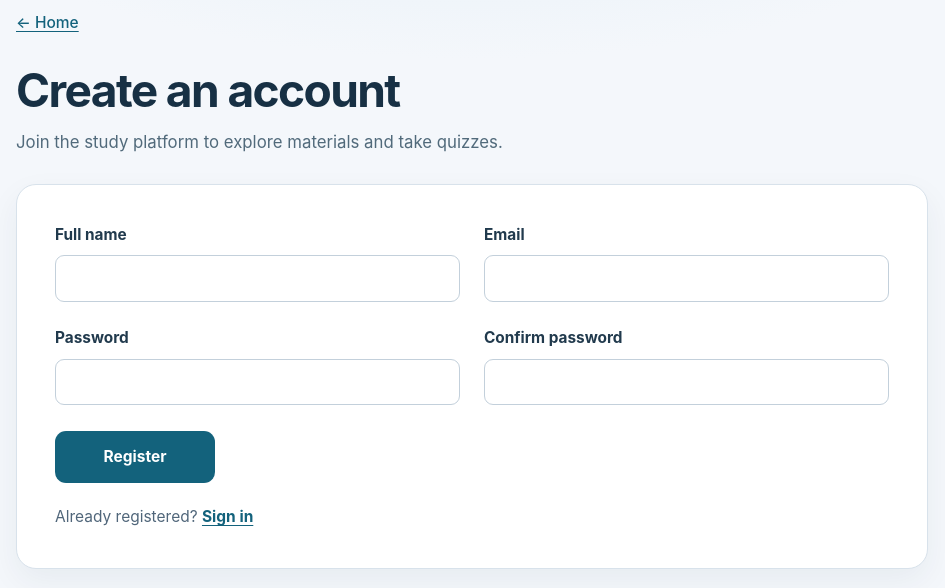
Scenario: registers via existing API and offers sign-in afterward
In the field labelled "Full name": (258, 279) x1=55 y1=255 x2=460 y2=302, type "Riya Sharma"
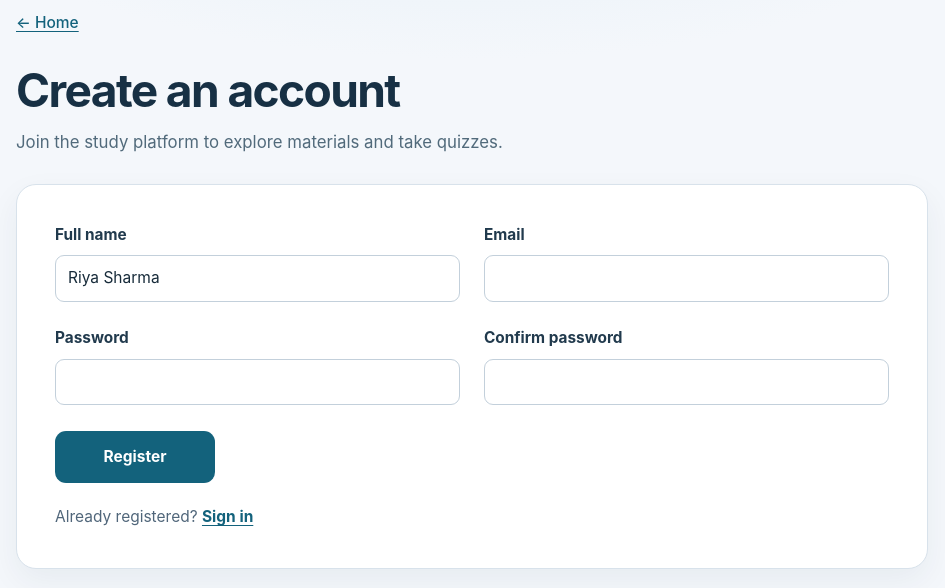
In the field labelled "Email": (686, 279) x1=484 y1=255 x2=889 y2=302, type "riya@example.com"
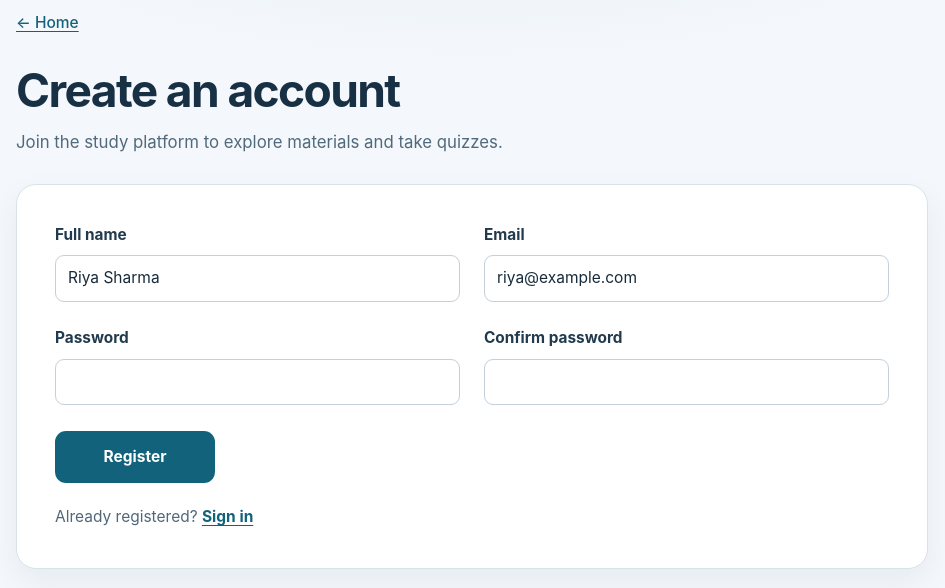
In the password field labelled "Password": (258, 382) x1=55 y1=359 x2=460 y2=405, type "Valid1234"
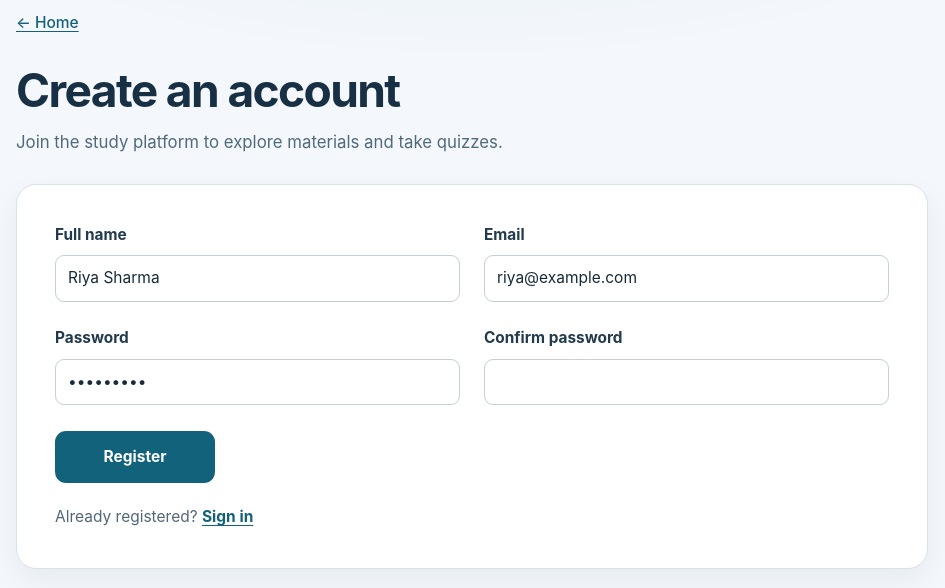
In the password field labelled "Confirm password": (686, 382) x1=484 y1=359 x2=889 y2=405, type "Valid1234"
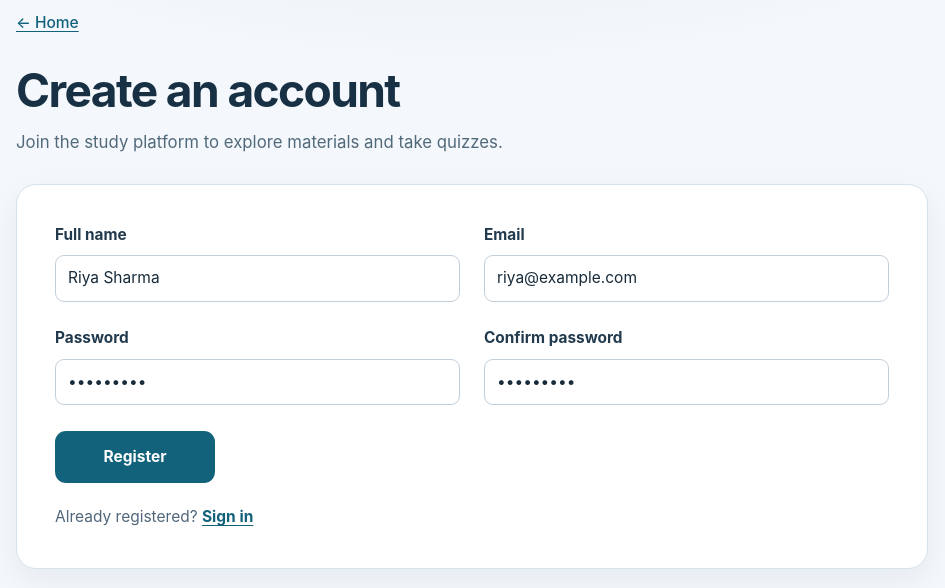
Click the button "Register": (135, 457) x1=55 y1=431 x2=215 y2=483
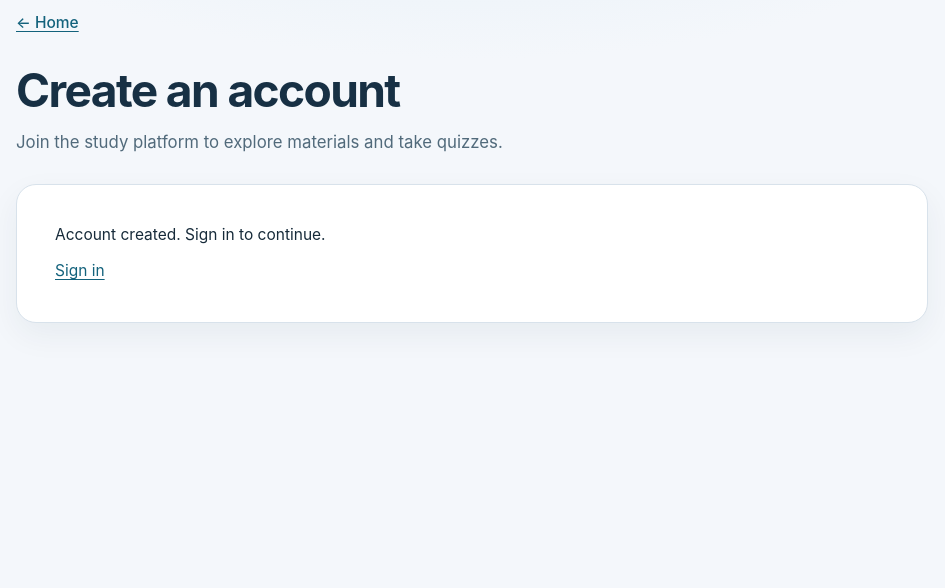
expect the text "Account created. Sign in to continue." is shown: met, box x1=55 y1=225 x2=326 y2=244
